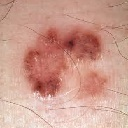Carcinoma: (22, 29, 99, 104)
